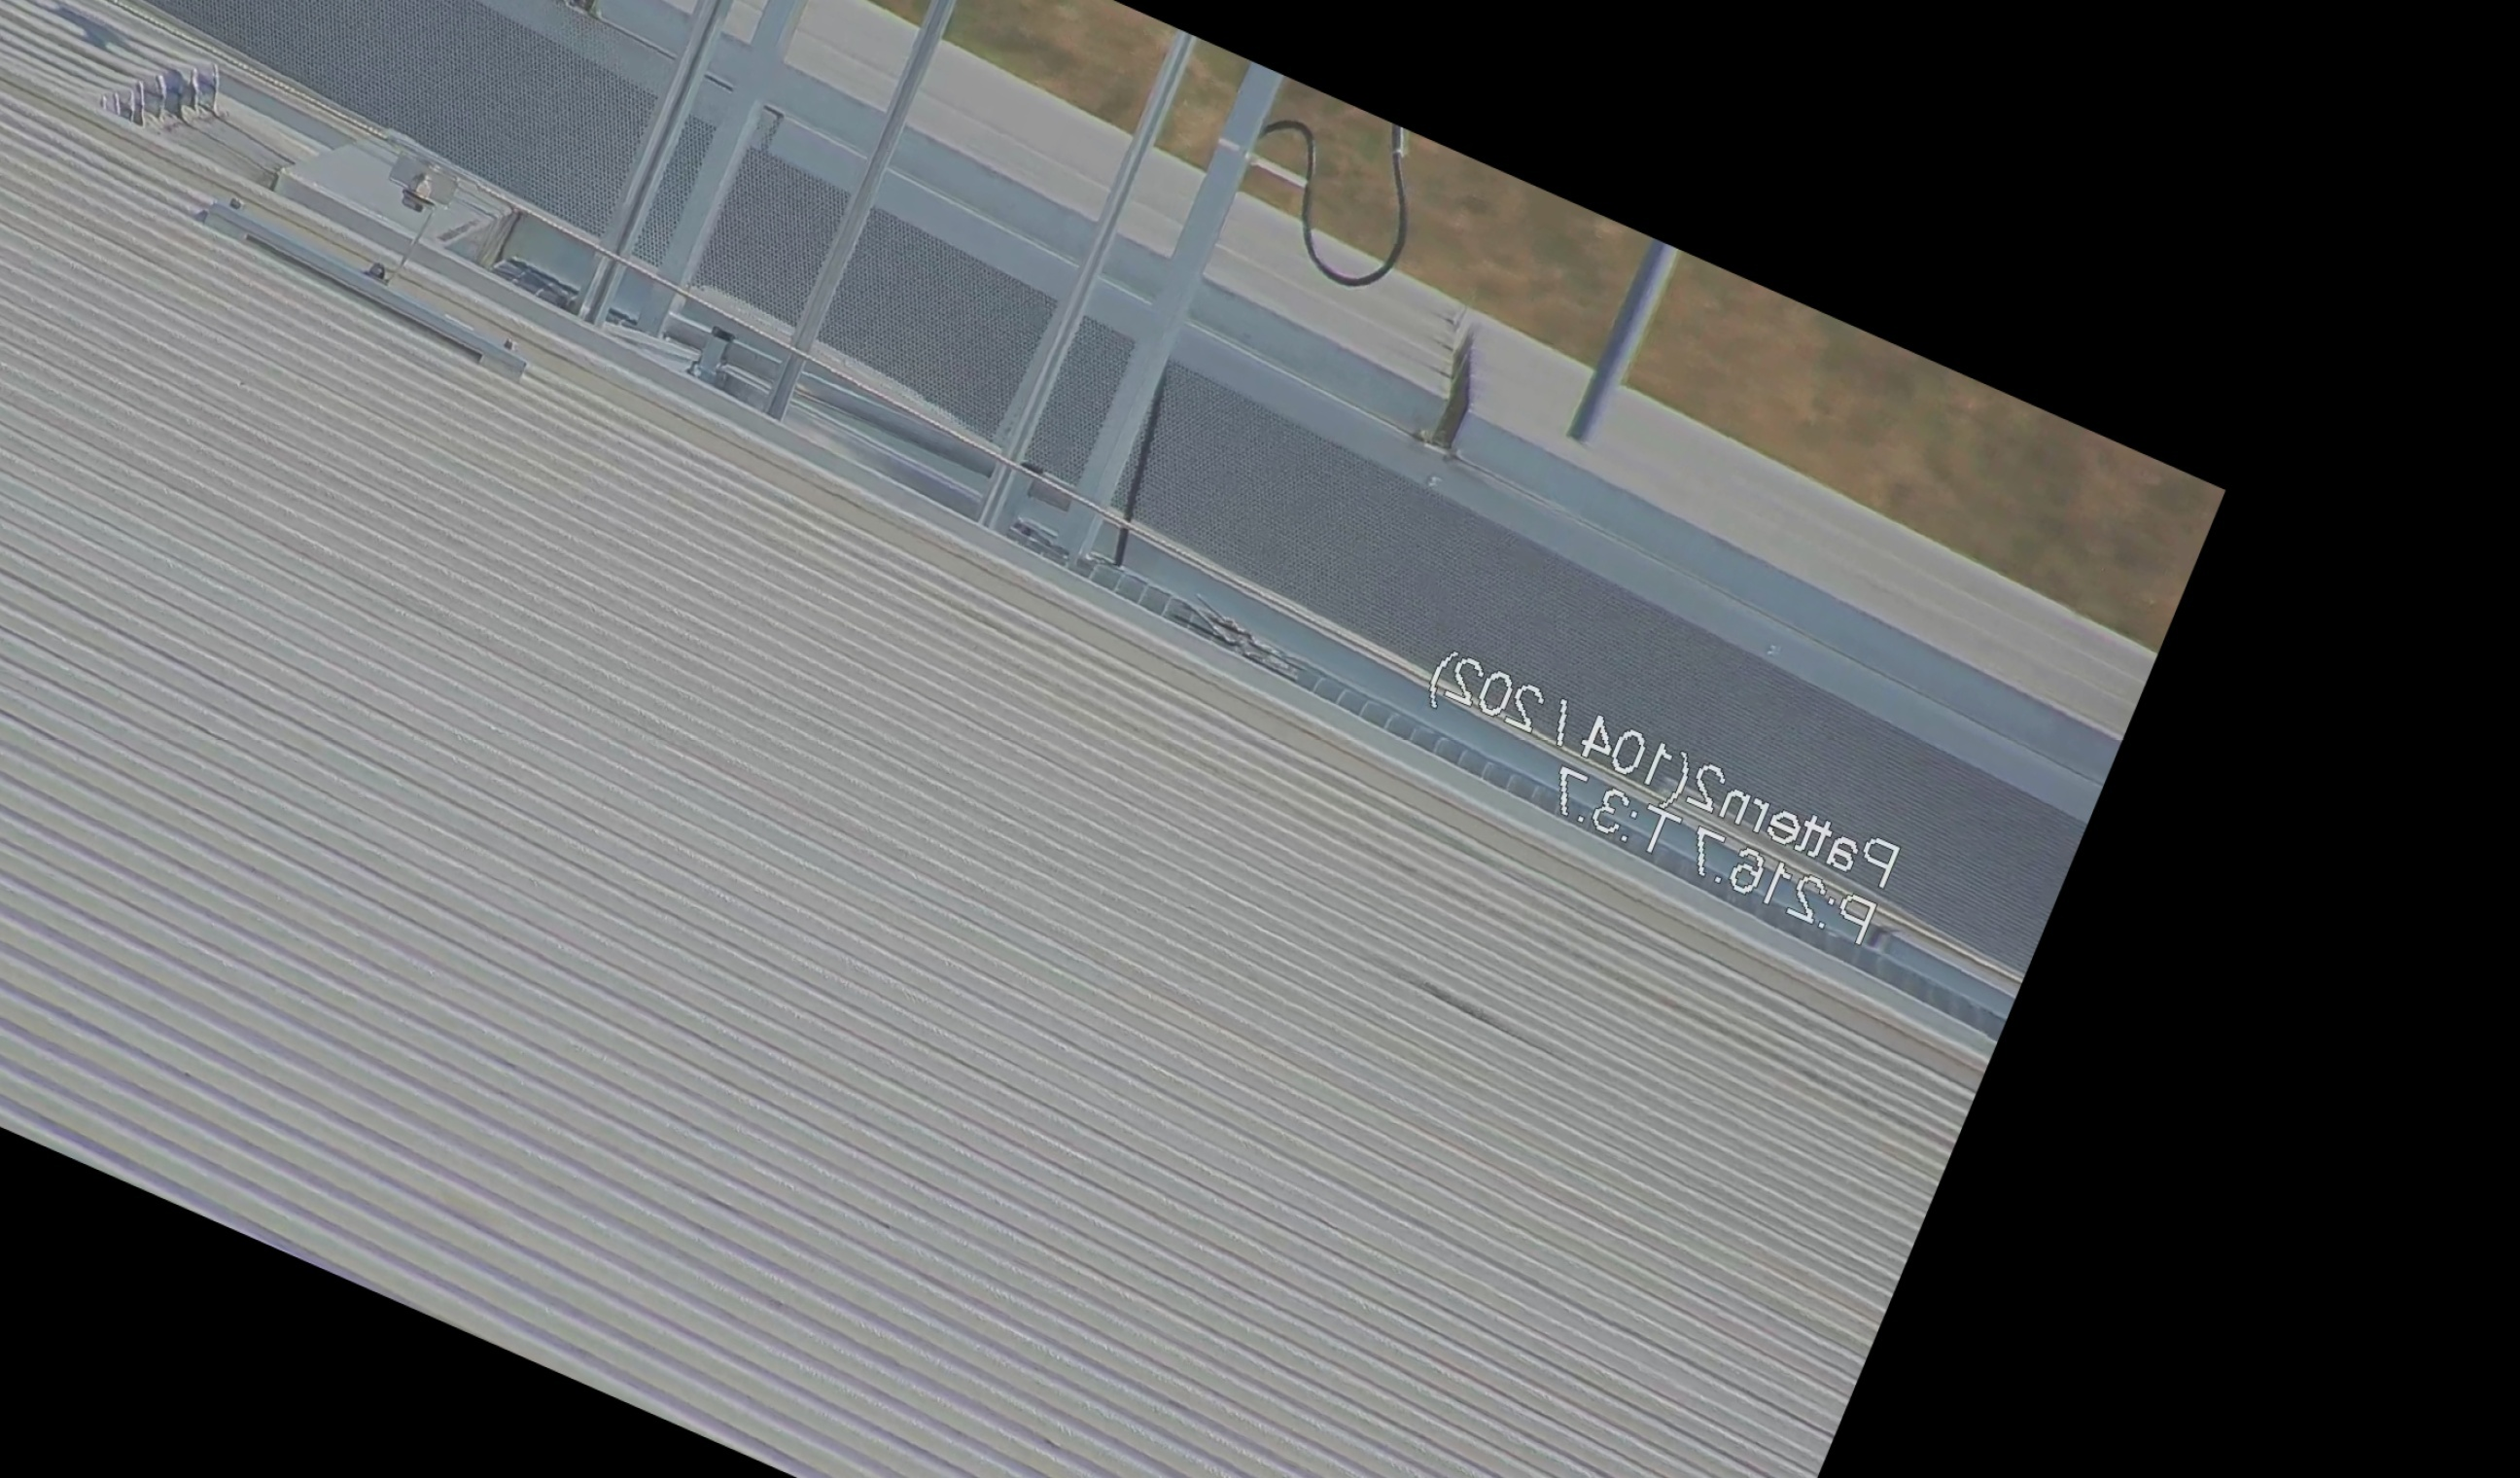Other: (1409, 308, 1521, 465)
